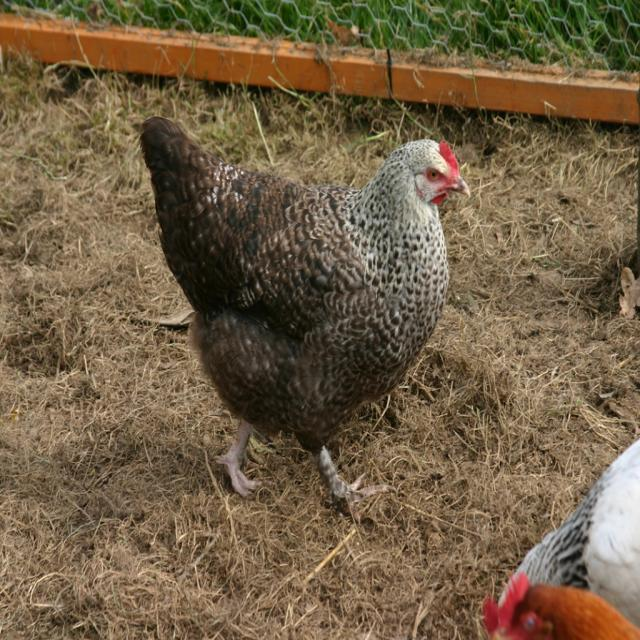Chicken: (138, 116, 470, 526), (497, 440, 640, 627), (482, 573, 640, 640)
